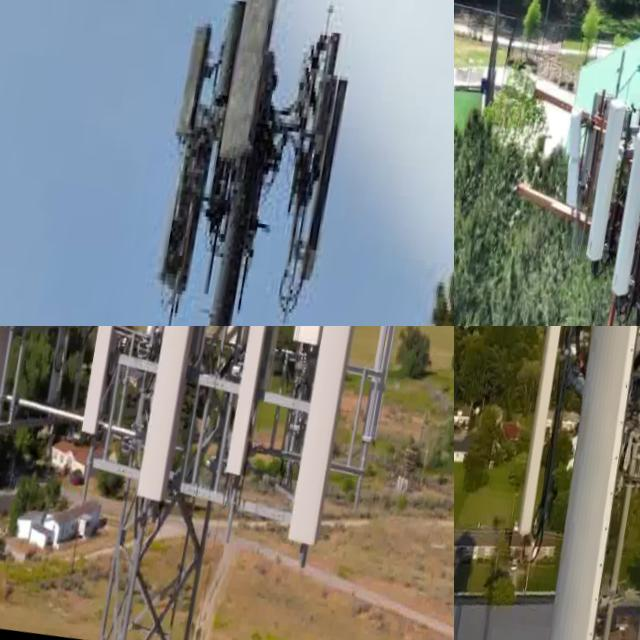GSM Antenna: (516, 326, 640, 640), (495, 326, 599, 548), (277, 326, 379, 551), (127, 326, 225, 521), (293, 67, 355, 298), (206, 0, 286, 172), (218, 326, 285, 480), (352, 326, 424, 467), (580, 93, 631, 273), (64, 326, 135, 447), (604, 120, 640, 305), (169, 10, 216, 151), (281, 326, 352, 408), (0, 326, 49, 434), (552, 94, 595, 212), (625, 203, 640, 324)
